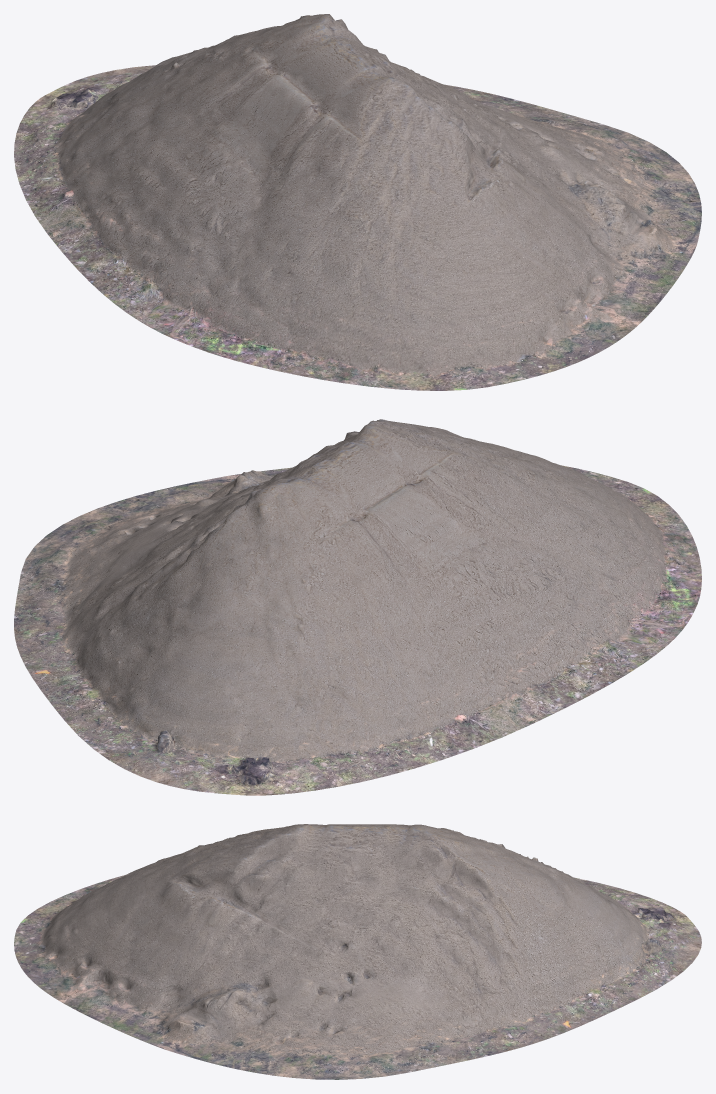
Rendered from Sand.fbx.
3 views of the same model, one above another, from view 1: azimuth 30°, elevation 25°; view 2: azimuth 150°, elevation 25°; view 3: azimuth 270°, elevation 25° (orthographic). The views are drawn at different scales.
Parts seen in each view (by area): view 1: Sand; view 2: Sand; view 3: Sand.
Part boxes in pixels (box(x1,y1,x2,y2)): Sand: box(14, 14, 701, 390); Sand: box(14, 419, 701, 795); Sand: box(14, 824, 701, 1079).
Size of the model in its own units: 672 by 183 by 859.
